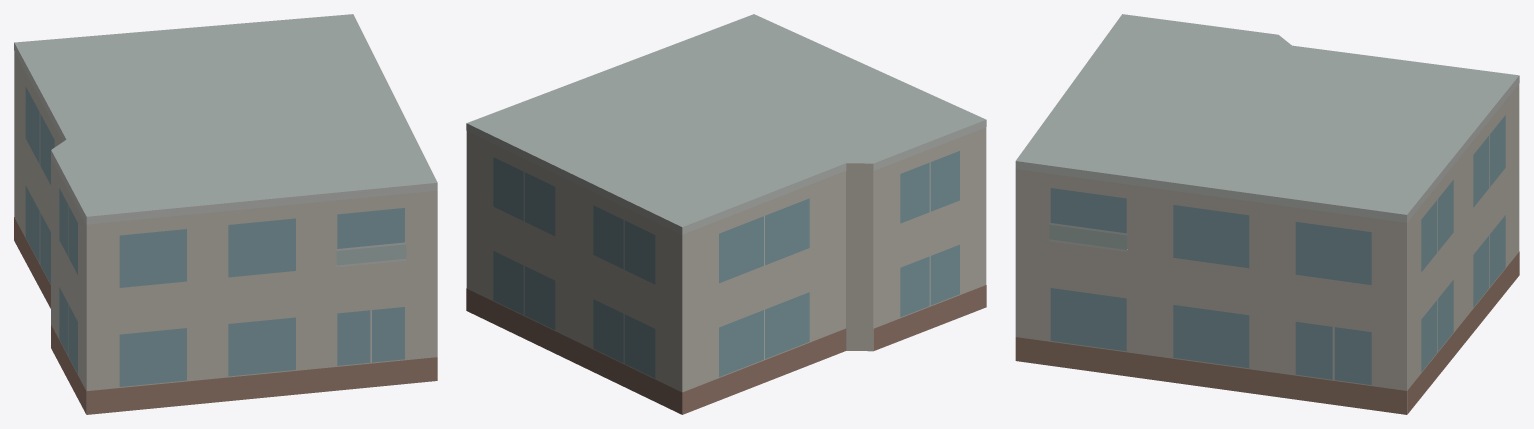
Rendered from survey-upis-32695711.glb.
3 renders of one model, left to right at view 1: azimuth 30°, elevation 25°; view 2: azimuth 150°, elevation 25°; view 3: azimuth 270°, elevation 25°, orthographic. The views are drawn at different scales.
Parts seen in each view (by area): view 1: survey-upis-32695711.tmp; view 2: survey-upis-32695711.tmp; view 3: survey-upis-32695711.tmp.
Part boxes in pixels (<box>): survey-upis-32695711.tmp: <box>14,14,437,414</box>; survey-upis-32695711.tmp: <box>466,14,986,414</box>; survey-upis-32695711.tmp: <box>1015,14,1519,414</box>.
Bounding box in the file's own units: 13.16 × 6.1 × 13.94.
